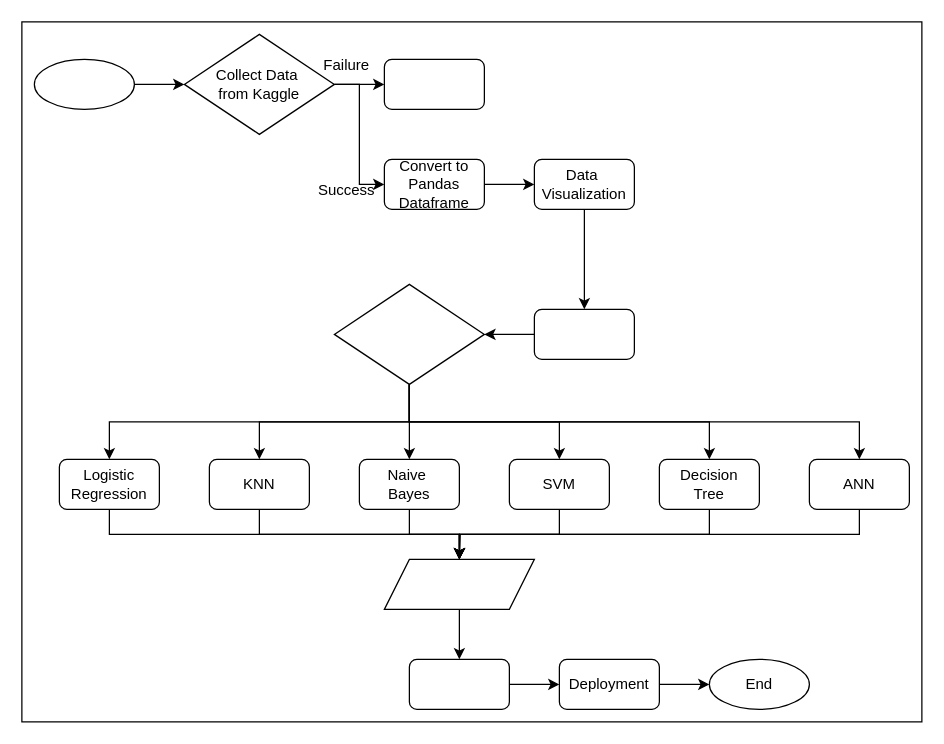
This 944x744 diagram has some shape labels left out. The box of each missing label's shape, as (x1, y1, x2, y2) in pixels:
Apply PCA: (533, 308, 634, 359)
Ensemble Model: (383, 558, 534, 609)
Evaluation: (408, 658, 509, 709)
Handle Exceptions: (383, 58, 484, 109)
Model Training: (333, 283, 484, 384)
Start: (33, 58, 134, 109)
